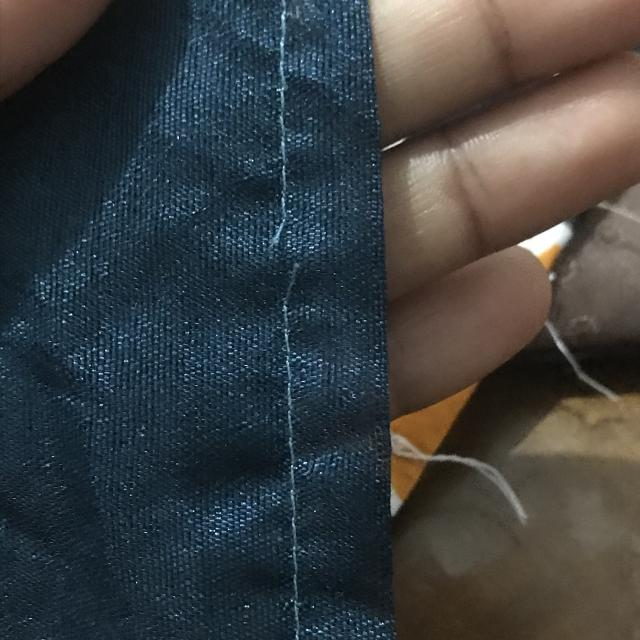broken: (250, 201, 317, 319)
good: (280, 368, 314, 532)
